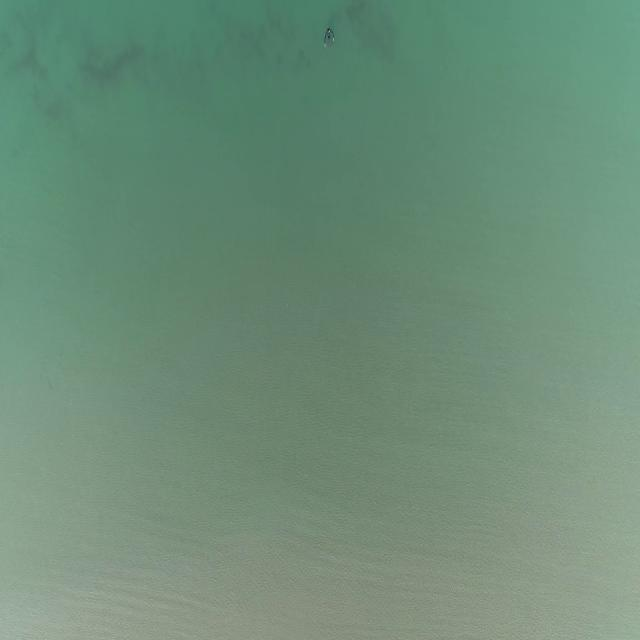person: (324, 26, 336, 46)
